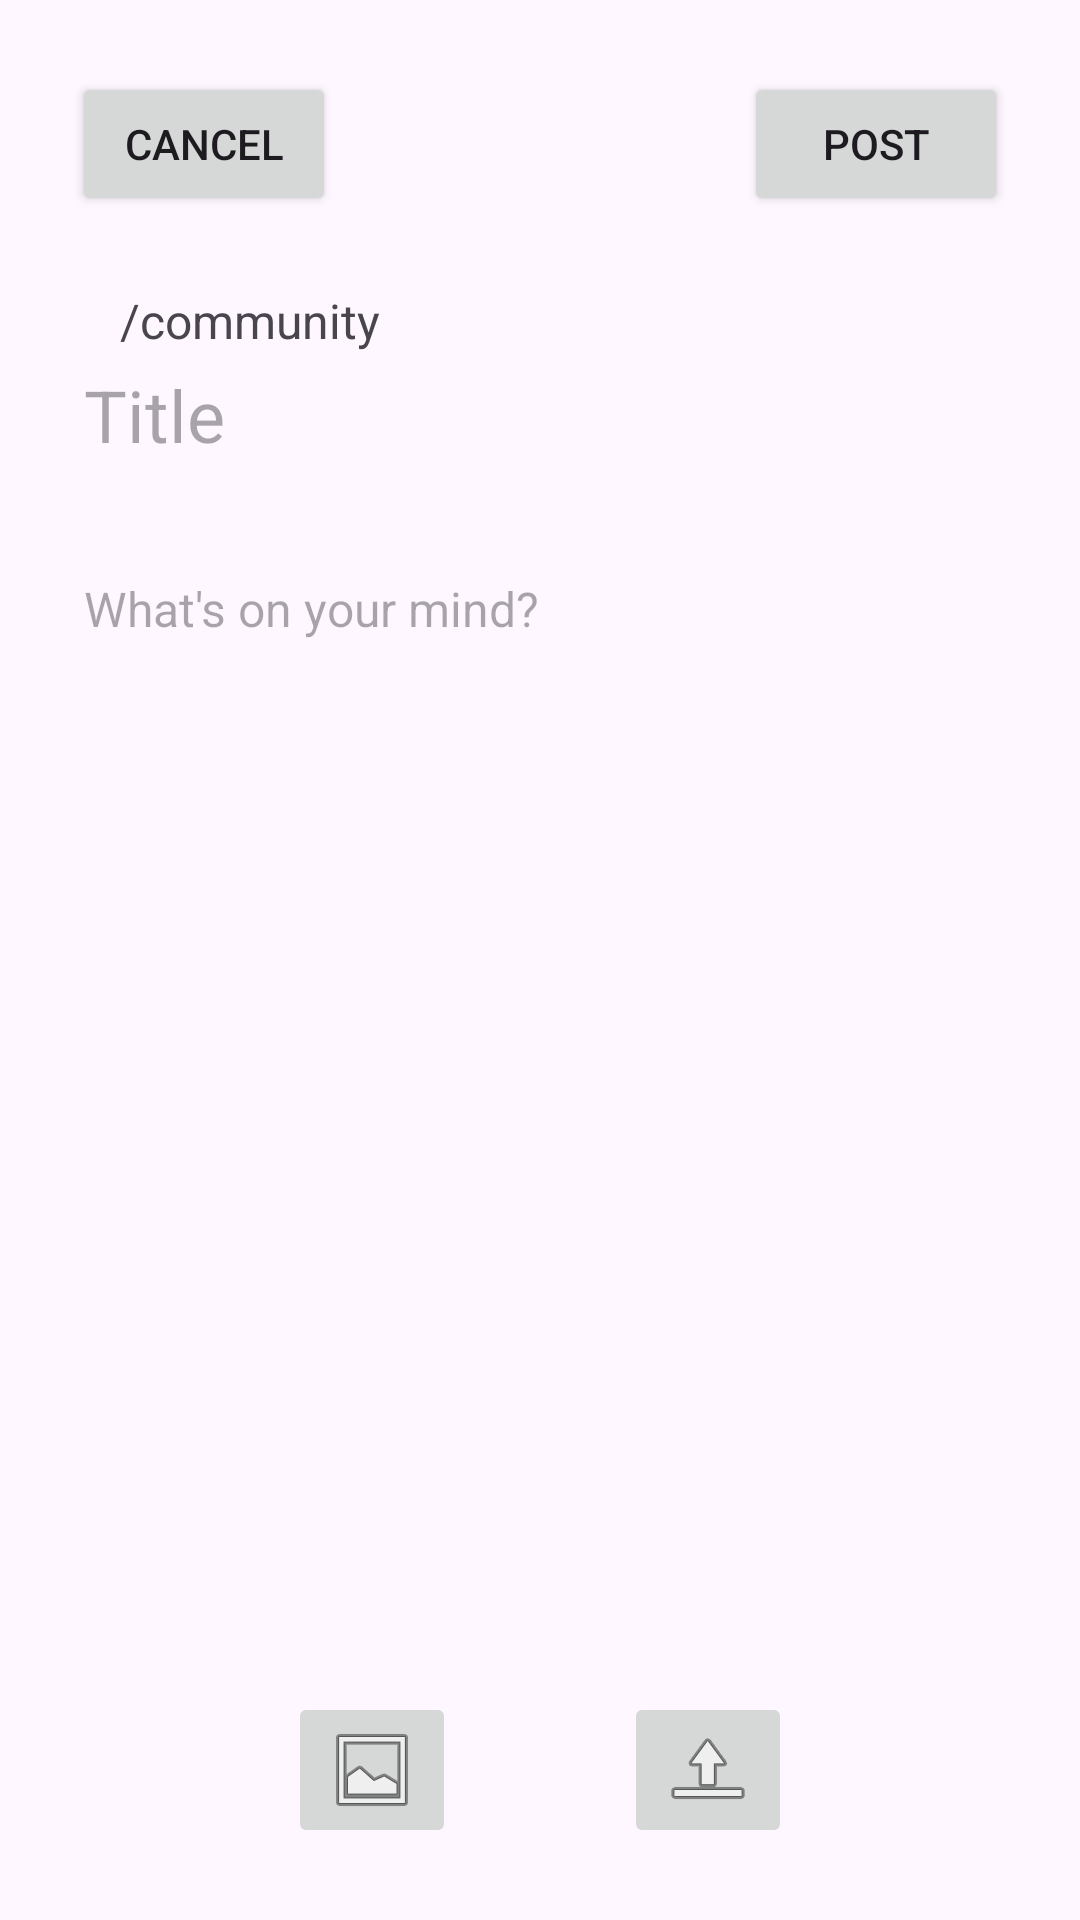

Icons on this 1080*1920 Android screen, each with the point to tap as (x,y):
gallery: (372,1770)
upload: (708,1770)
